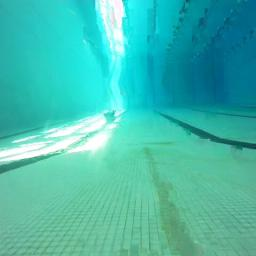Full: (104, 110, 116, 124)
